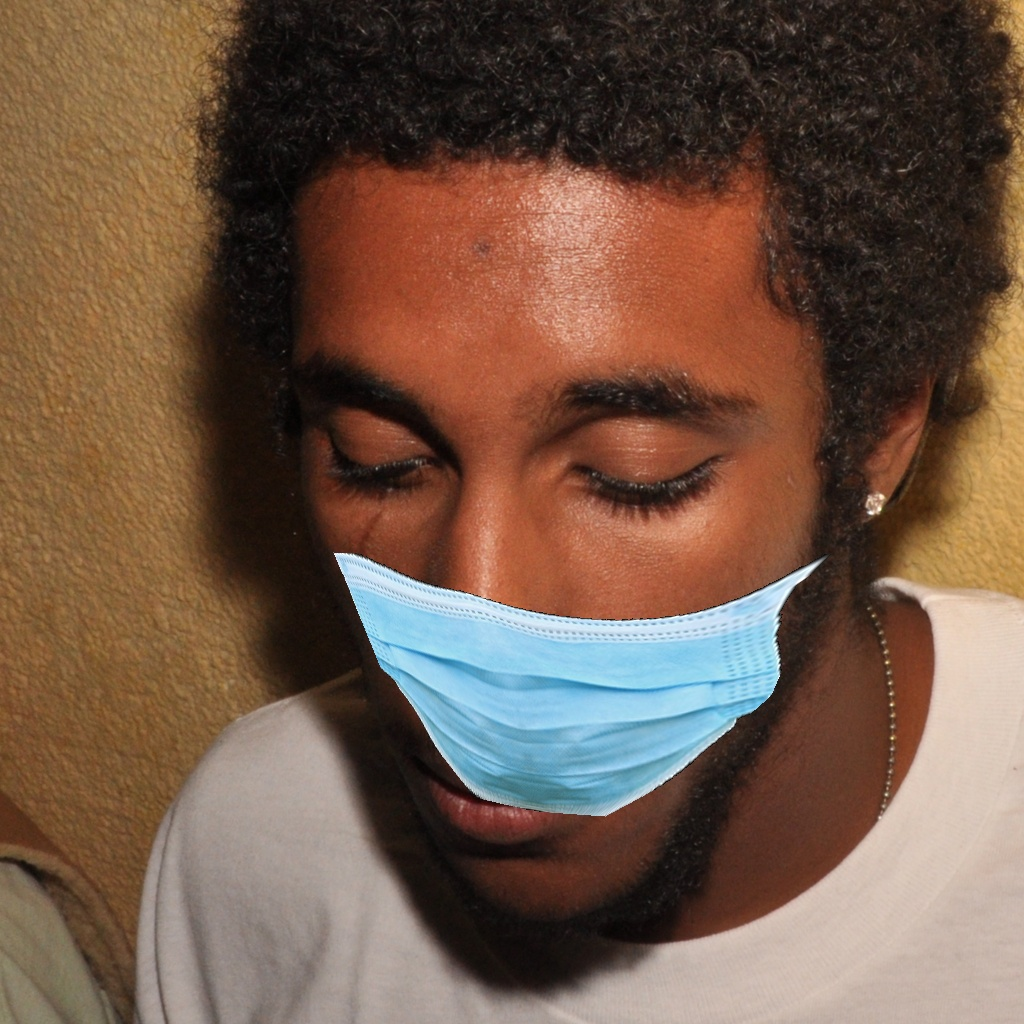mask_weared_incorrect: (293, 295, 833, 951)
